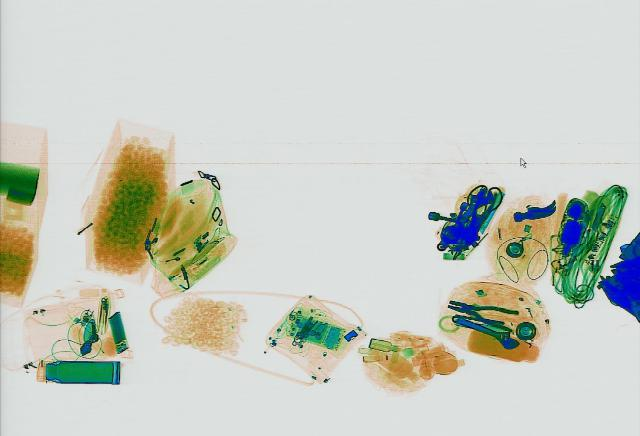Pliers: (444, 295, 520, 328)
Wrench: (444, 308, 526, 351)
